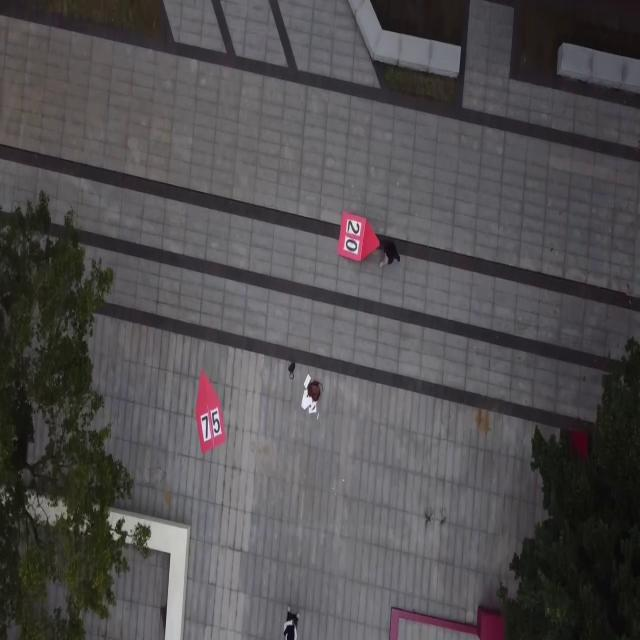-sign-: (386, 604, 505, 640), (194, 369, 226, 454), (337, 210, 380, 262)
